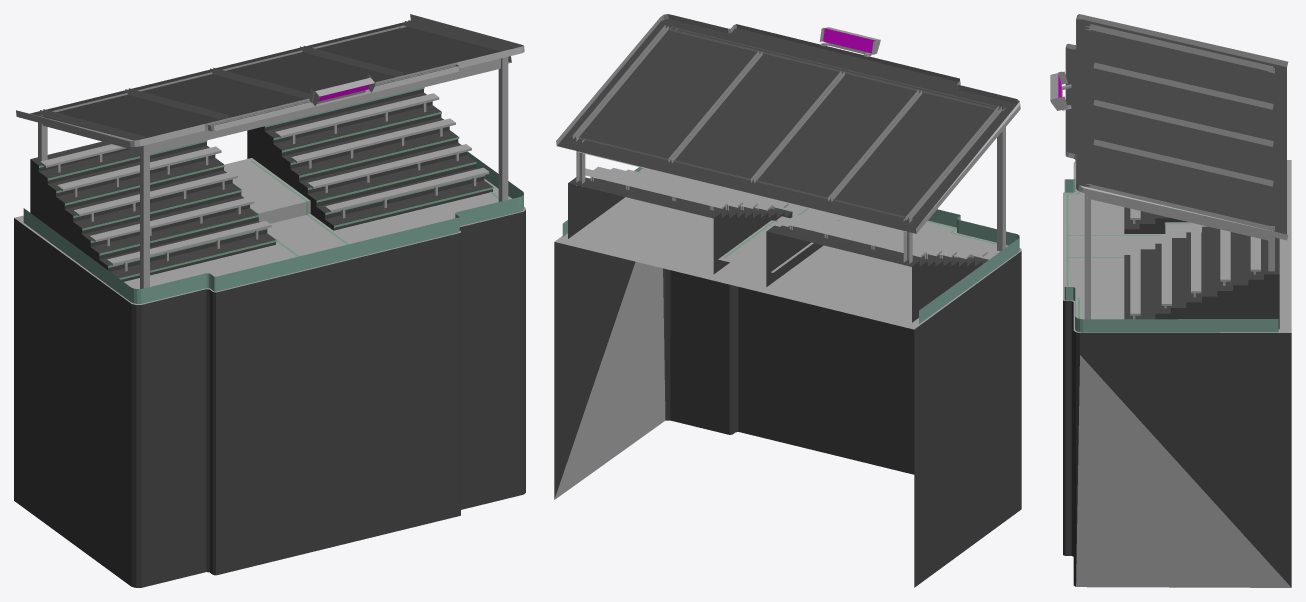
Rendered from Mesh_Grandstand.fbx.
The picture shows the model from 3 angles, left to right: view 1: azimuth 30°, elevation 25°; view 2: azimuth 150°, elevation 25°; view 3: azimuth 270°, elevation 25°; orthographic projection. The views are drawn at different scales.
Parts seen in each view (by area): view 1: Mesh_Grandstand; view 2: Mesh_Grandstand; view 3: Mesh_Grandstand.
Part boxes in pixels (x1,y1,x2,y2): Mesh_Grandstand: [14, 14, 525, 587]; Mesh_Grandstand: [554, 14, 1021, 587]; Mesh_Grandstand: [1050, 14, 1291, 587].
Bounding box in the file's own units: 39.58 × 44.56 × 23.32.
